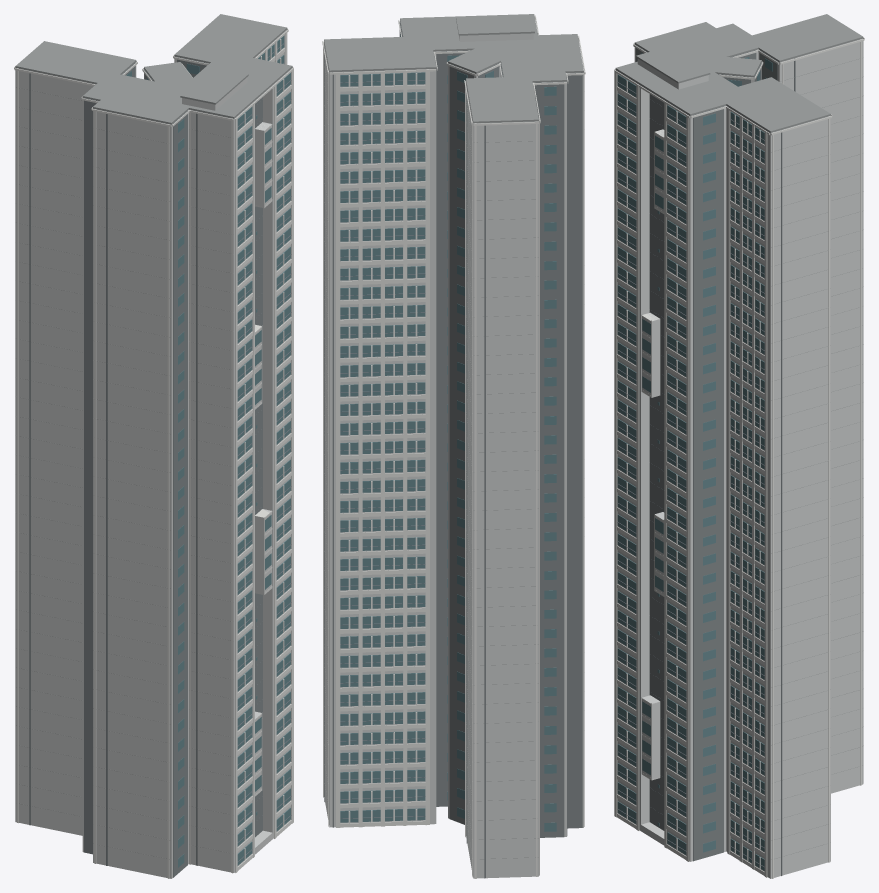
Rendered from bespoke-seoulforest-riverview-xi-104.glb.
3 views of the same model, side by side, from view 1: azimuth 30°, elevation 25°; view 2: azimuth 150°, elevation 25°; view 3: azimuth 270°, elevation 25° (orthographic).
Parts seen in each view (by area): view 1: SFRX104_editable_SFRX104_light_grey_solid_wall006, SFRX104_editable_SFRX104_broad_white_facade_frames006, SFRX104_editable_SFRX104_deep_gray_recessed_service_wall006, SFRX104_editable_SFRX104_blue_grey_horizontal_glazing006, SFRX104_editable_SFRX104_modest_grey_flat_roof_caps006, SFRX104_editable_SFRX104_dark_horizontal_spandrels_and_mulli; view 2: SFRX104_editable_SFRX104_light_grey_solid_wall006, SFRX104_editable_SFRX104_deep_gray_recessed_service_wall006, SFRX104_editable_SFRX104_broad_white_facade_frames006, SFRX104_editable_SFRX104_blue_grey_horizontal_glazing006, SFRX104_editable_SFRX104_modest_grey_flat_roof_caps006, SFRX104_editable_SFRX104_dark_horizontal_spandrels_and_mulli; view 3: SFRX104_editable_SFRX104_light_grey_solid_wall006, SFRX104_editable_SFRX104_broad_white_facade_frames006, SFRX104_editable_SFRX104_blue_grey_horizontal_glazing006, SFRX104_editable_SFRX104_deep_gray_recessed_service_wall006, SFRX104_editable_SFRX104_modest_grey_flat_roof_caps006, SFRX104_editable_SFRX104_dark_horizontal_spandrels_and_mulli.
Part boxes in pixels (box(x1,y1,x2,y2)): SFRX104_editable_SFRX104_light_grey_solid_wall006: box(15, 29, 292, 878); SFRX104_editable_SFRX104_broad_white_facade_frames006: box(14, 18, 293, 878); SFRX104_editable_SFRX104_deep_gray_recessed_service_wall006: box(29, 57, 262, 877); SFRX104_editable_SFRX104_blue_grey_horizontal_glazing006: box(126, 36, 290, 867); SFRX104_editable_SFRX104_modest_grey_flat_roof_caps006: box(15, 14, 292, 859); SFRX104_editable_SFRX104_dark_horizontal_spandrels_and_mulli: box(237, 43, 291, 862); SFRX104_editable_SFRX104_light_grey_solid_wall006: box(324, 29, 583, 878); SFRX104_editable_SFRX104_deep_gray_recessed_service_wall006: box(324, 21, 582, 878); SFRX104_editable_SFRX104_broad_white_facade_frames006: box(322, 15, 585, 878); SFRX104_editable_SFRX104_blue_grey_horizontal_glazing006: box(340, 34, 556, 831); SFRX104_editable_SFRX104_modest_grey_flat_roof_caps006: box(324, 14, 583, 859); SFRX104_editable_SFRX104_dark_horizontal_spandrels_and_mulli: box(340, 80, 425, 818); SFRX104_editable_SFRX104_light_grey_solid_wall006: box(616, 38, 863, 878); SFRX104_editable_SFRX104_broad_white_facade_frames006: box(614, 37, 864, 878); SFRX104_editable_SFRX104_blue_grey_horizontal_glazing006: box(617, 53, 772, 870); SFRX104_editable_SFRX104_deep_gray_recessed_service_wall006: box(636, 45, 795, 875); SFRX104_editable_SFRX104_modest_grey_flat_roof_caps006: box(615, 14, 863, 859); SFRX104_editable_SFRX104_dark_horizontal_spandrels_and_mulli: box(617, 82, 764, 867).
Bounding box in the file's own units: 38.43 × 114 × 34.35.
